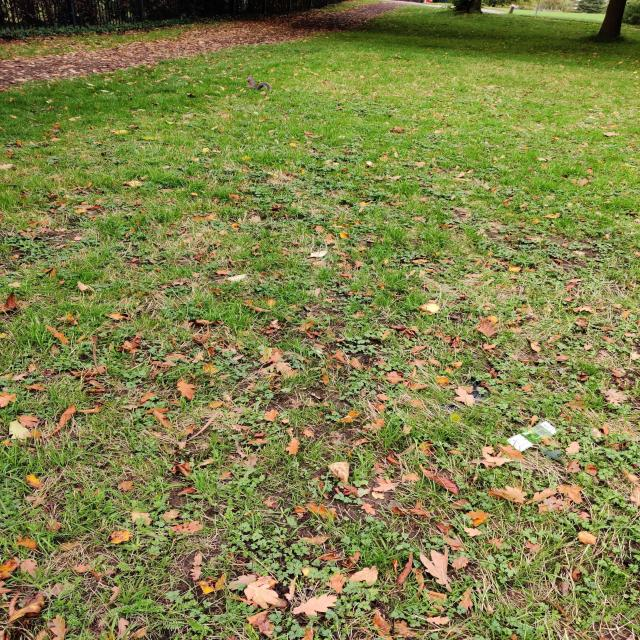litter: (507, 420, 560, 452)
